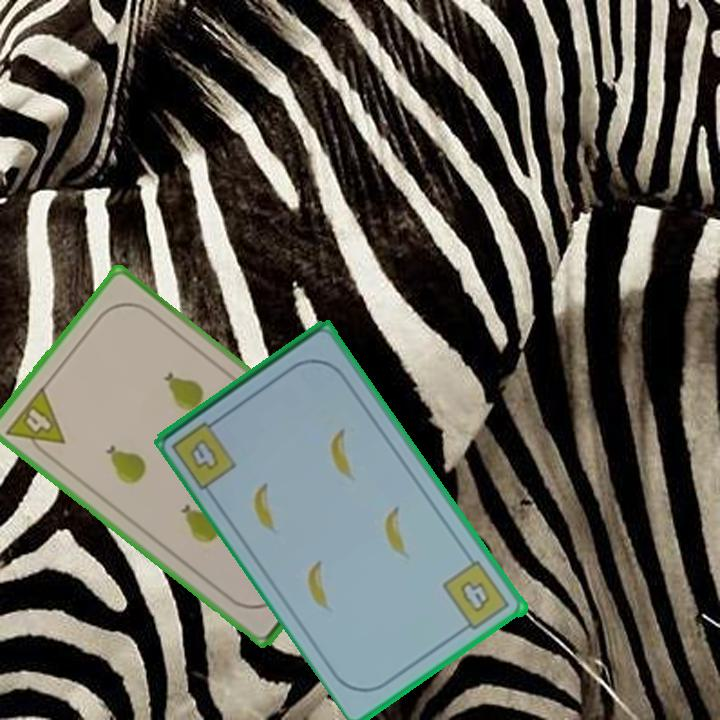4b: (439, 557, 514, 636), (168, 412, 240, 493)
4p: (2, 382, 68, 463)
